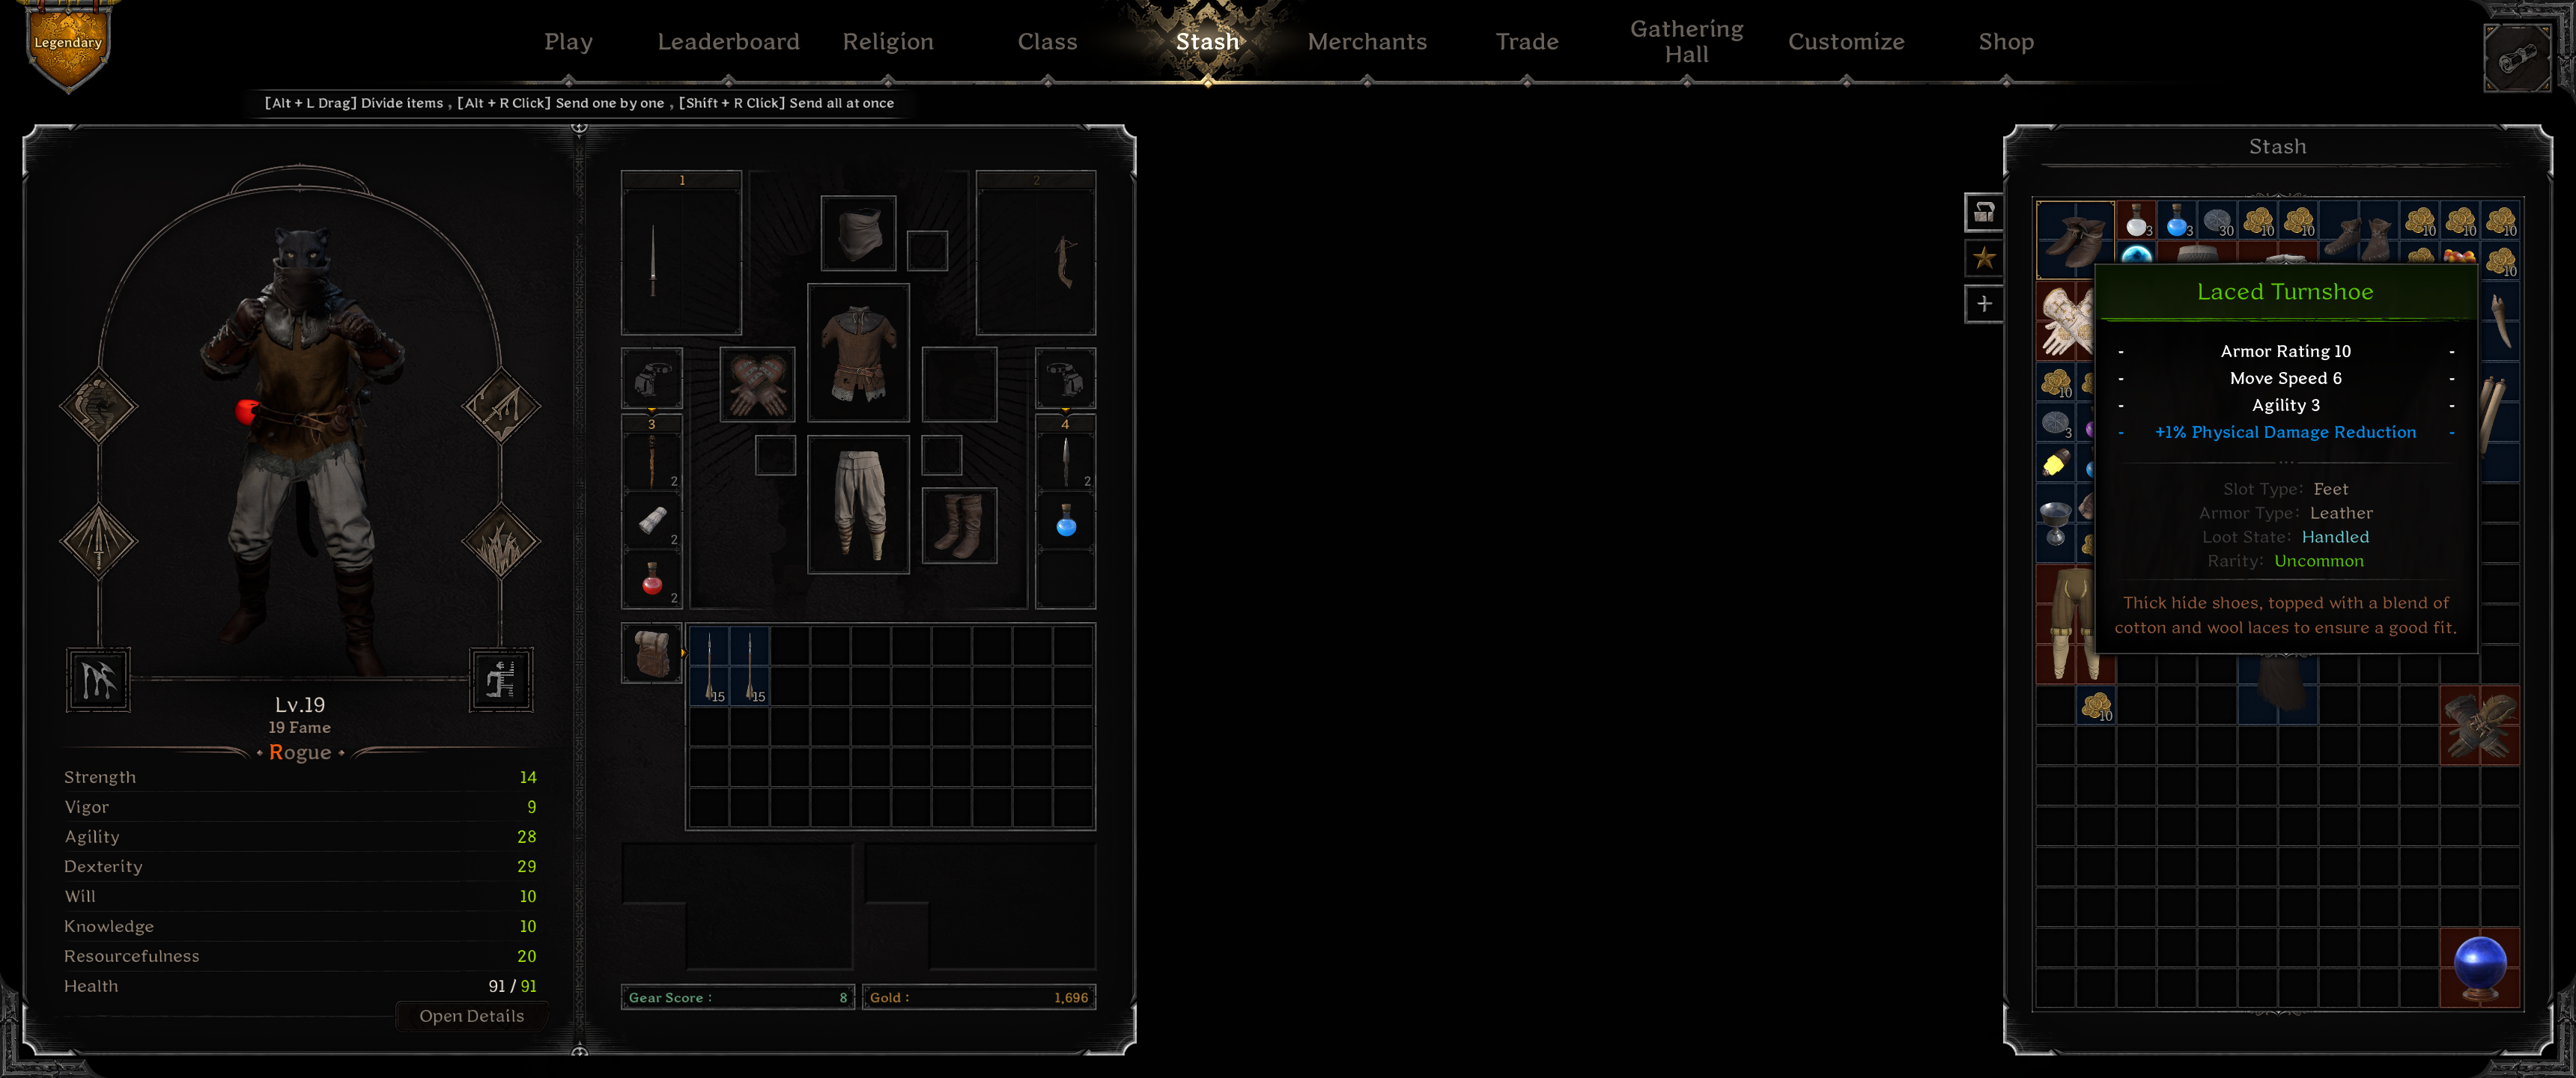Tooltip: (2093, 261, 2479, 656)
